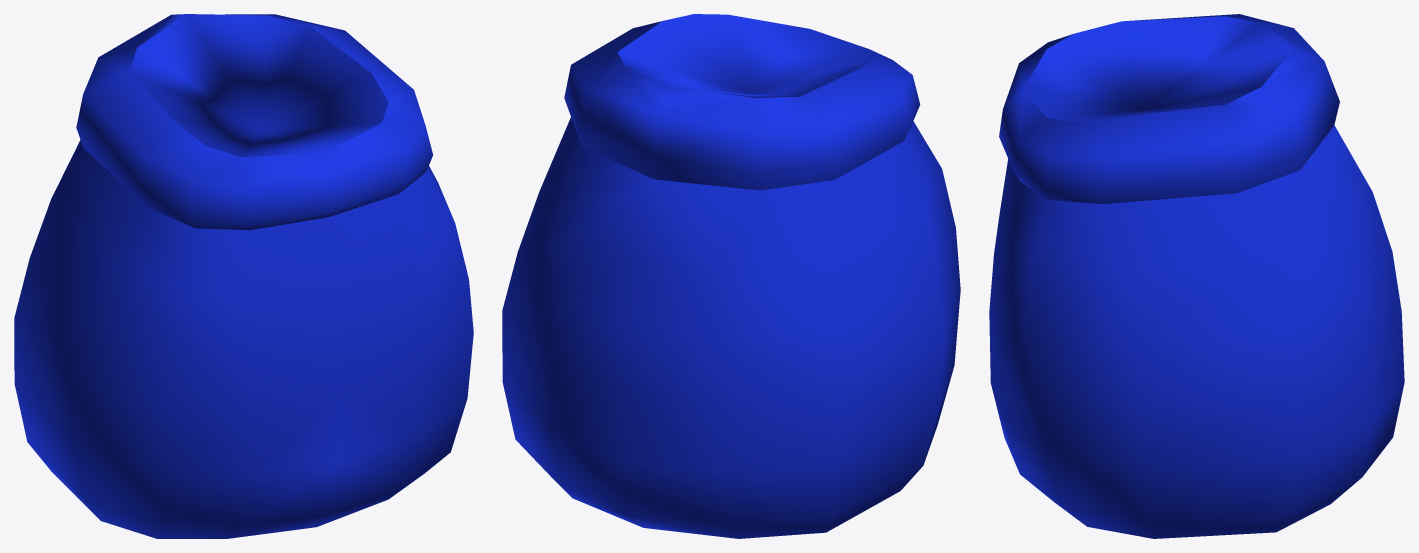
The model's file is Turtleneck Body.fbx.
3 views of the same model, side by side, from view 1: azimuth 30°, elevation 25°; view 2: azimuth 150°, elevation 25°; view 3: azimuth 270°, elevation 25° (orthographic).
Visible parts, largest first — view 1: Hoodie; view 2: Hoodie; view 3: Hoodie.
Boxes of the visible parts, x1,y1,x2,y2 form: Hoodie: (14,14,473,538); Hoodie: (502,14,960,538); Hoodie: (989,14,1404,538).
Bounding box in the file's own units: 38.79 × 40.13 × 36.4.
